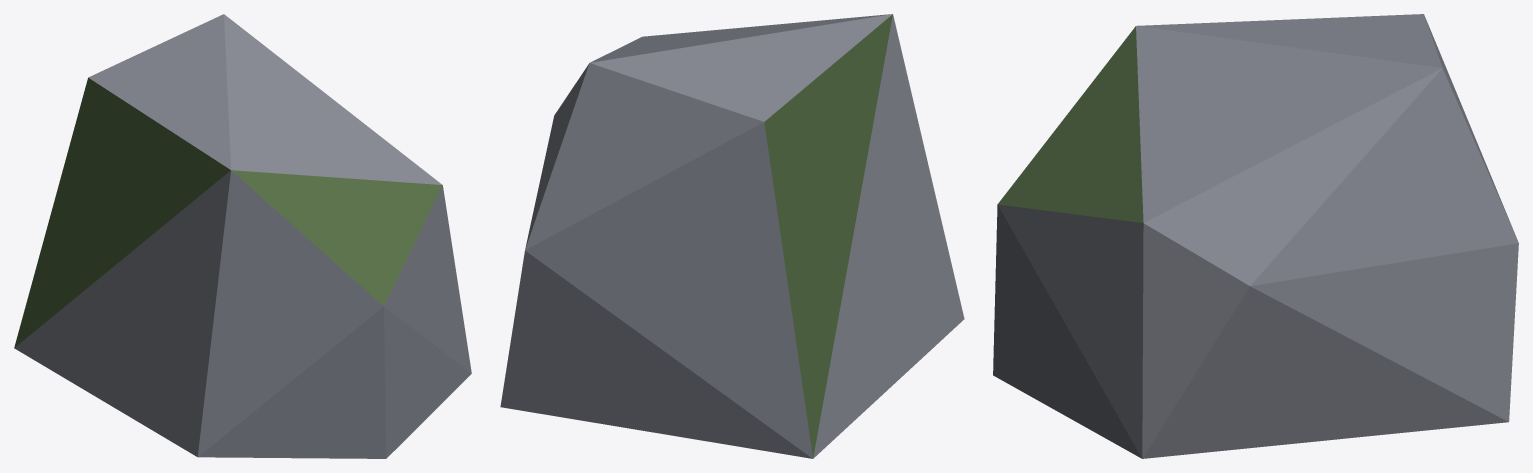
Rendered from Rock_Moss_7.lod4.glb.
The picture shows the model from 3 angles, left to right: view 1: azimuth 30°, elevation 25°; view 2: azimuth 150°, elevation 25°; view 3: azimuth 270°, elevation 25°; orthographic projection. The views are drawn at different scales.
Visible parts, largest first — view 1: Rock_Moss_7; view 2: Rock_Moss_7; view 3: Rock_Moss_7.
Part boxes in pixels (x1,y1,x2,y2): Rock_Moss_7: [14, 14, 471, 458]; Rock_Moss_7: [500, 14, 964, 458]; Rock_Moss_7: [993, 14, 1518, 458].
Size of the model in its own units: 0.8703 by 0.7583 by 1.1.
